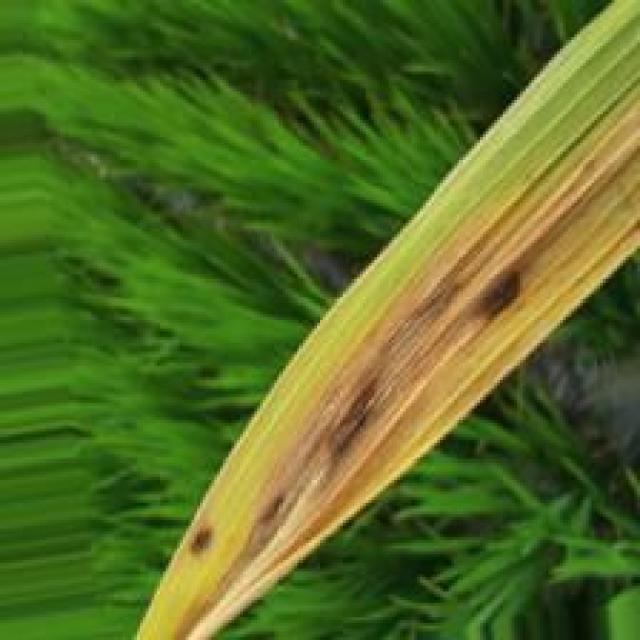Rice Tungro: (375, 271, 468, 379), (311, 371, 385, 485), (459, 270, 526, 329), (251, 491, 292, 529), (186, 521, 218, 568)
